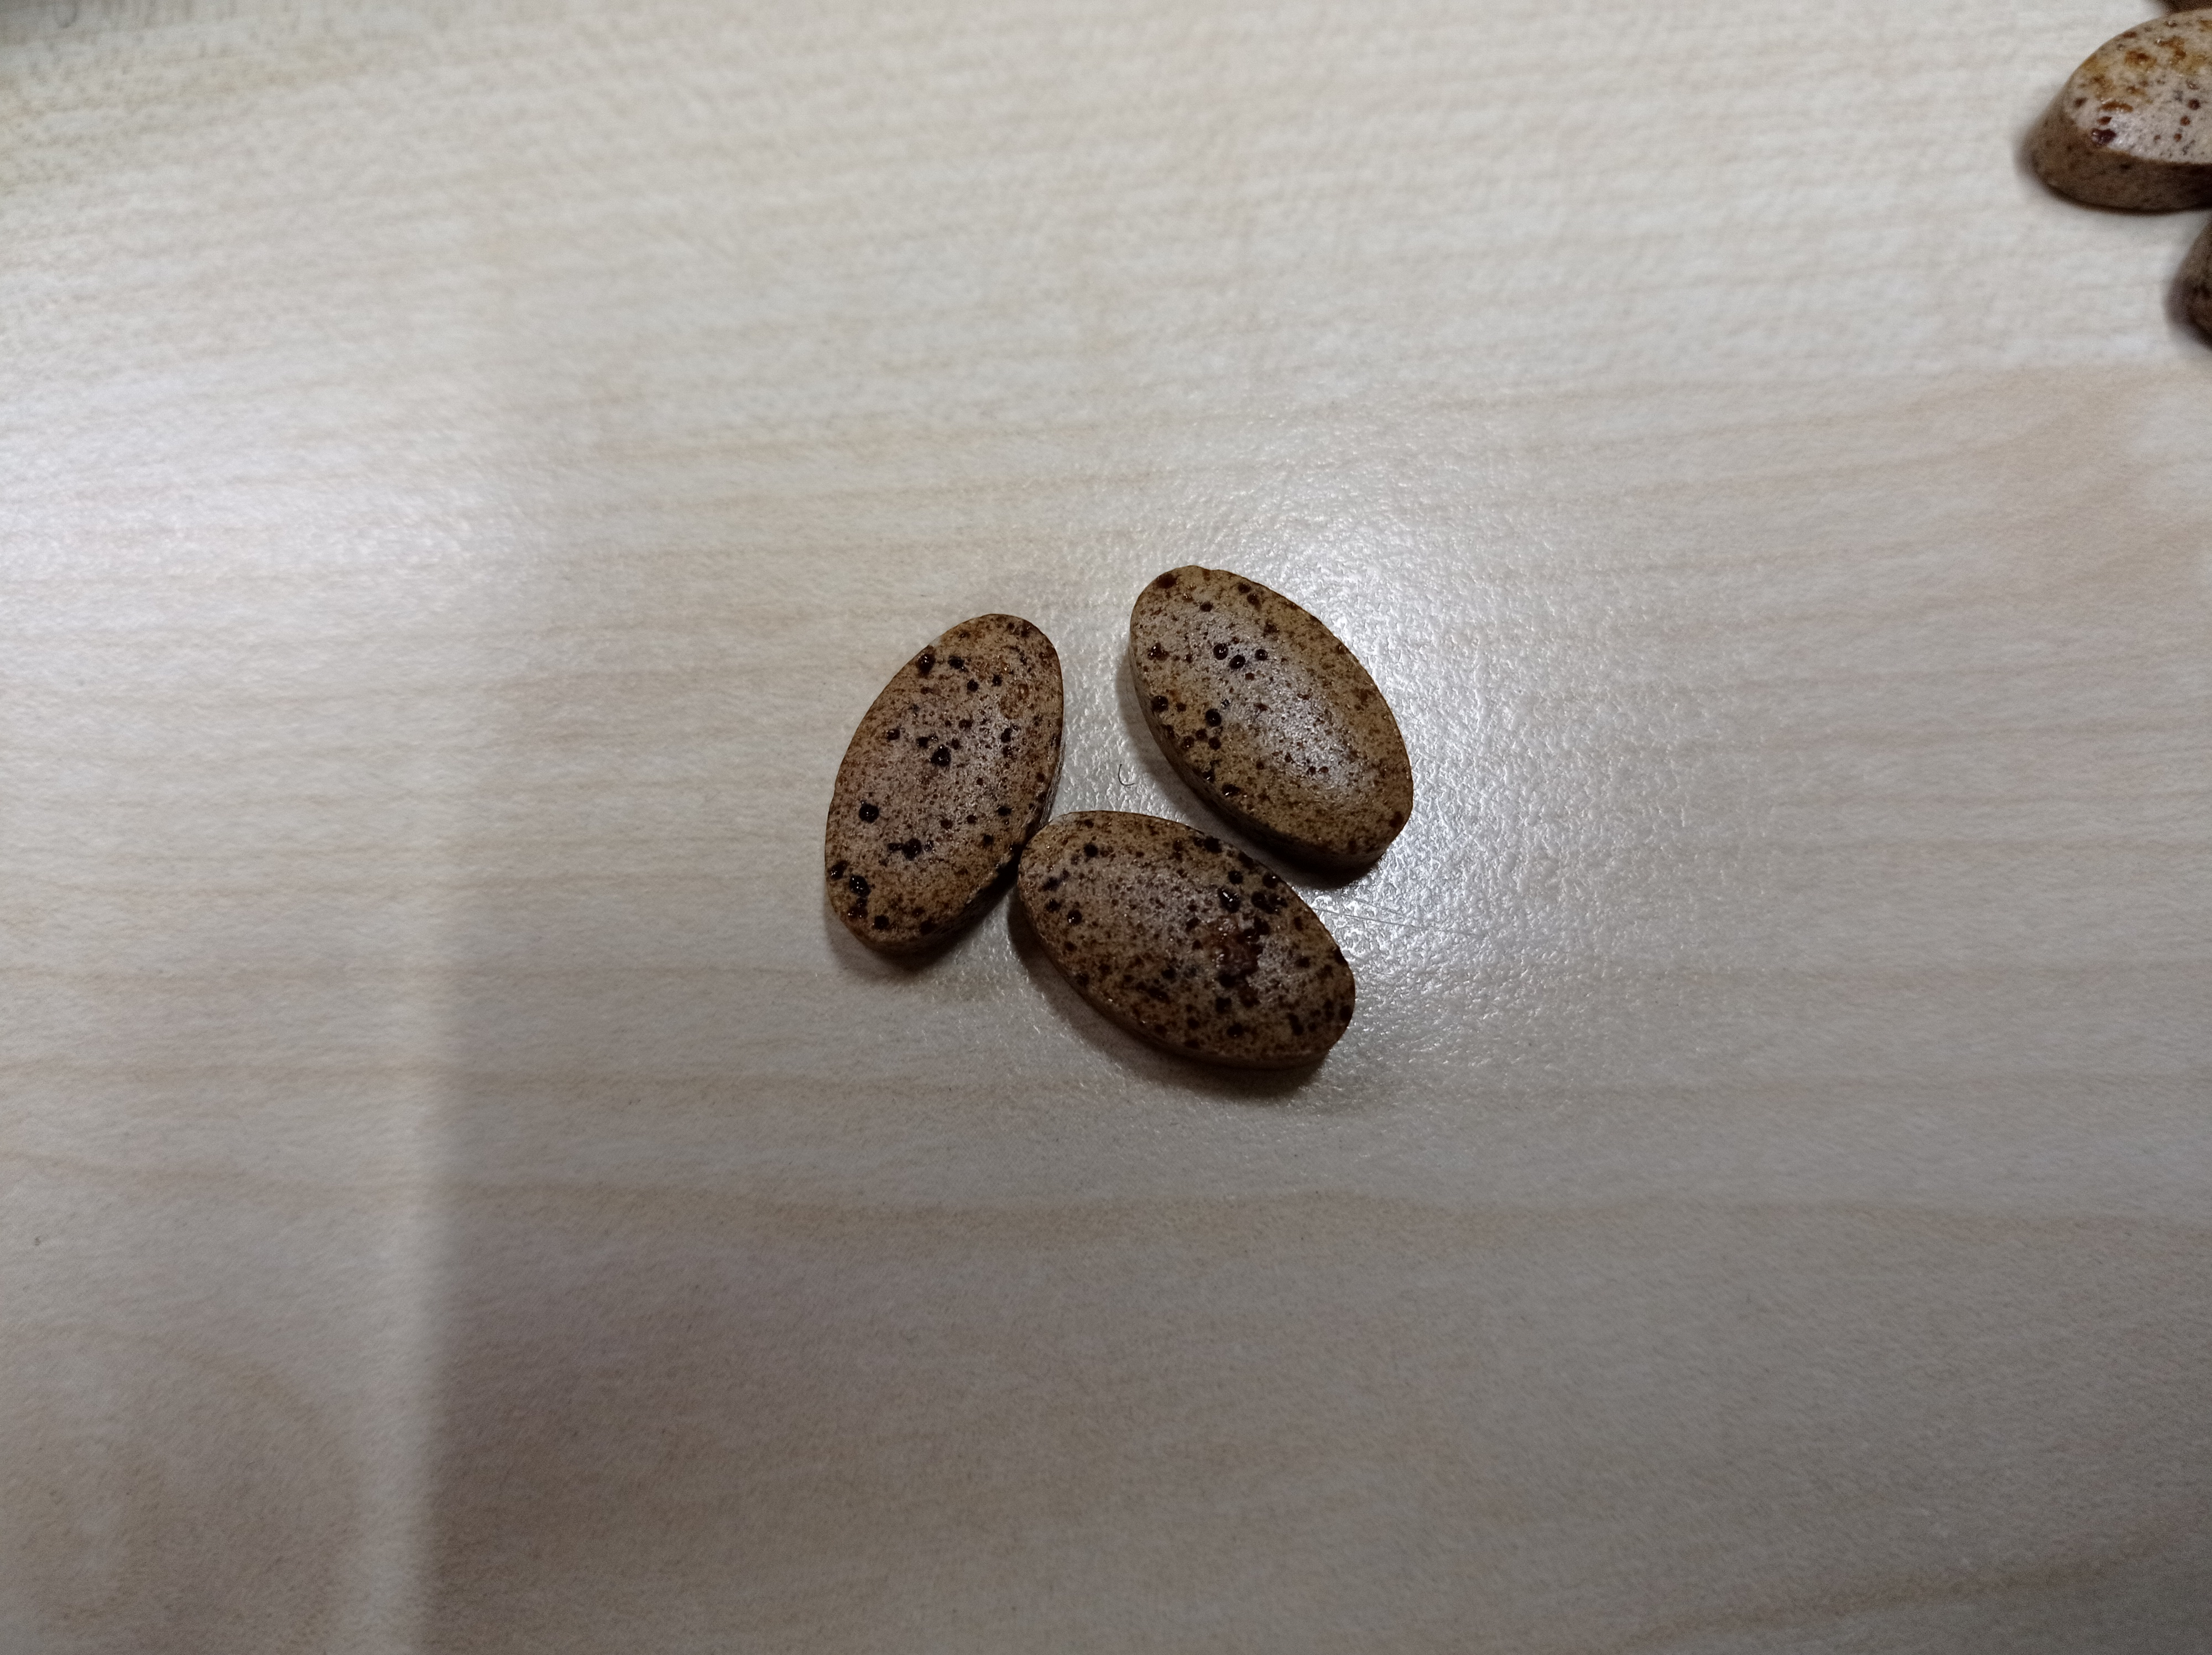brown_medicine: (1003, 815, 1352, 1097), (1128, 562, 1418, 871), (820, 614, 1067, 965)
